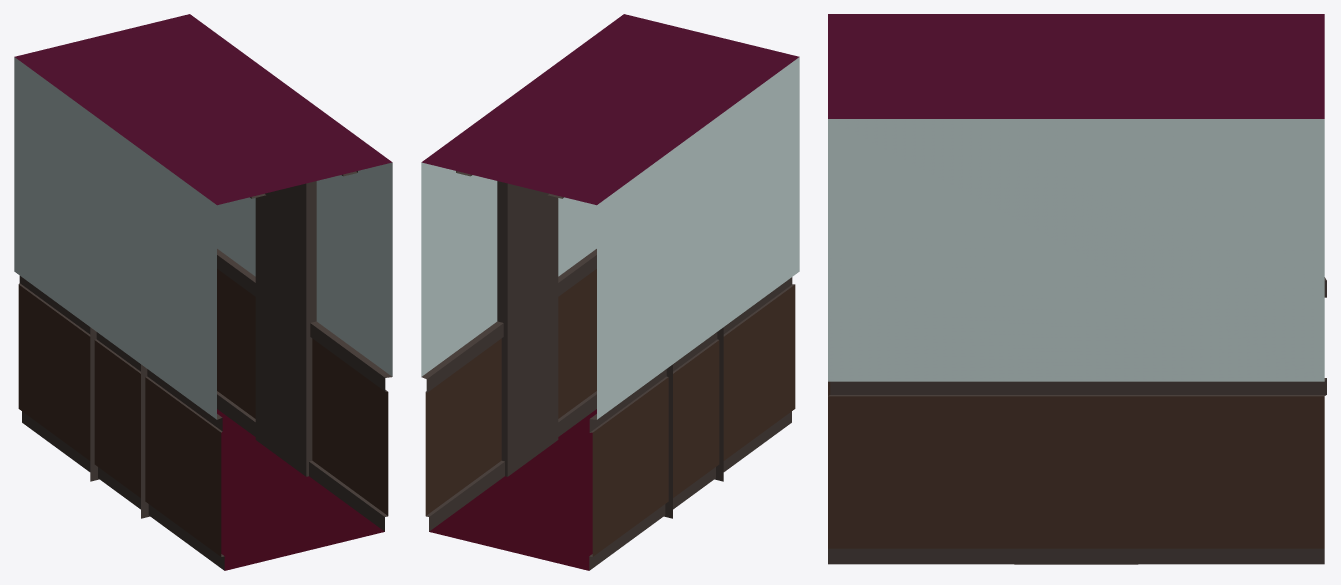
The model's file is SM_Corridor_Straight.fbx.
3 renders of one model, left to right at view 1: azimuth 30°, elevation 25°; view 2: azimuth 150°, elevation 25°; view 3: azimuth 270°, elevation 25°, orthographic. The views are drawn at different scales.
Visible parts, largest first — view 1: corridor, woodensupport_2, woodensupport_1; view 2: corridor, woodensupport_2, woodensupport_1; view 3: corridor.
Part boxes in pixels (bbox=[...]): corridor: bbox=[14, 14, 392, 570]; woodensupport_2: bbox=[255, 181, 316, 476]; woodensupport_1: bbox=[90, 327, 149, 518]; corridor: bbox=[421, 14, 799, 570]; woodensupport_2: bbox=[497, 181, 558, 476]; woodensupport_1: bbox=[664, 327, 723, 518]; corridor: bbox=[828, 14, 1326, 564].
Size of the model in its own units: 1 by 2.01 by 2.01.
